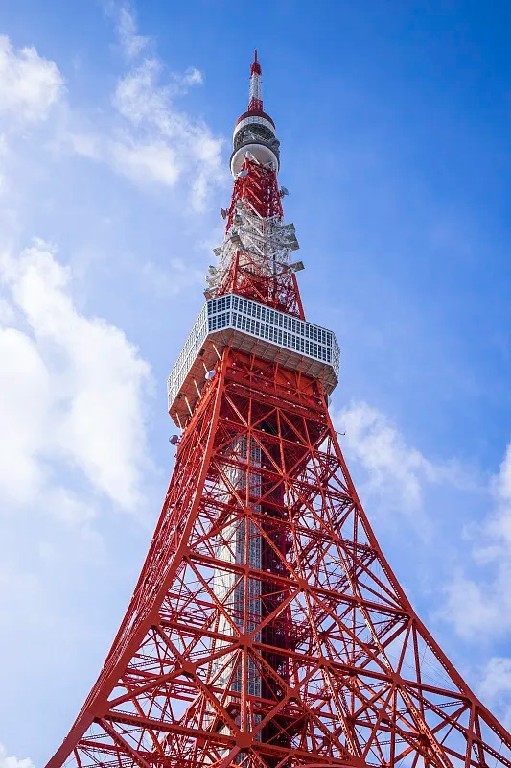Tokyo: (45, 47, 511, 767)
